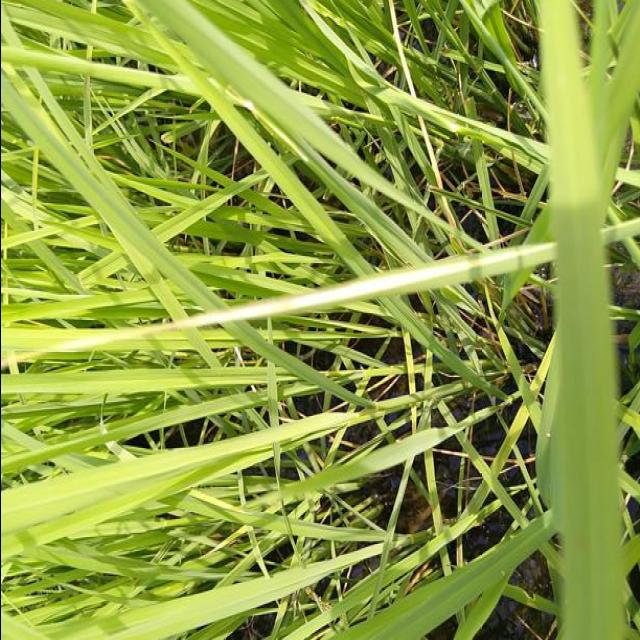Leaf Blight: (154, 243, 558, 330)
